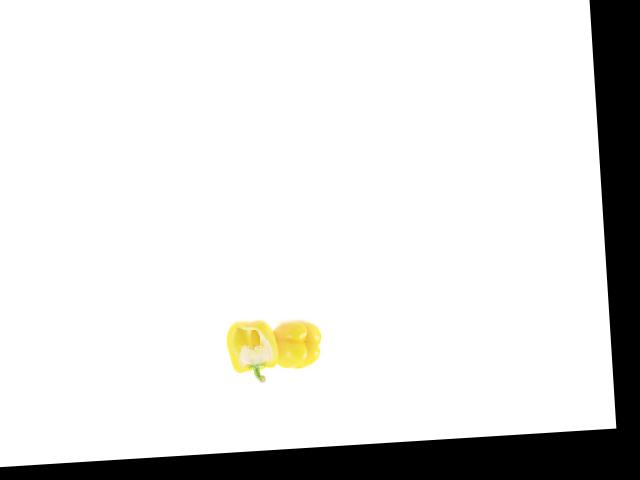bell_pepper: (221, 306, 289, 385)
